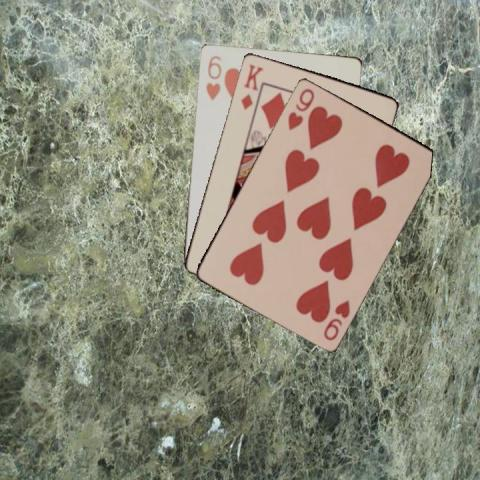6h: (202, 52, 222, 101)
9h: (284, 85, 316, 131), (320, 296, 351, 342)
Kd: (237, 60, 266, 110)
